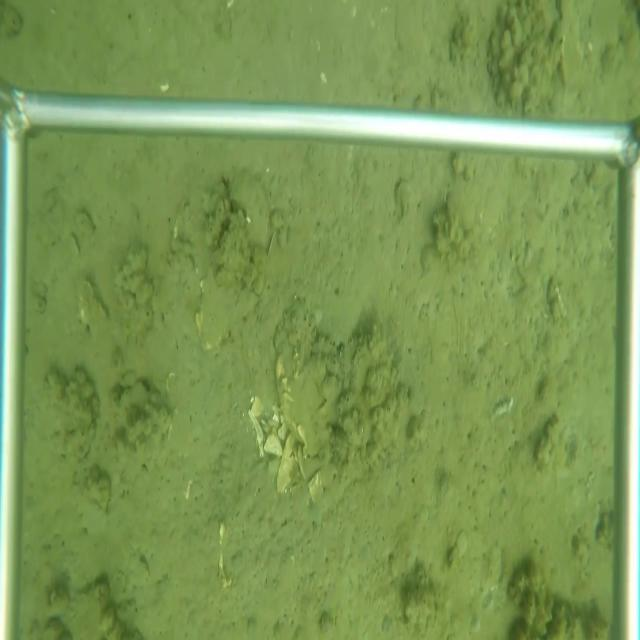Oyster-Indeterminate: (196, 254, 244, 355), (228, 164, 271, 251)
